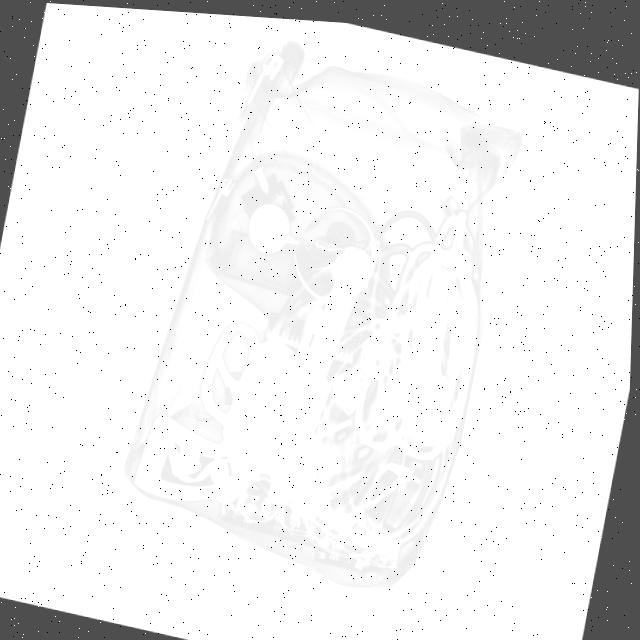pistol: (134, 205, 378, 530)
